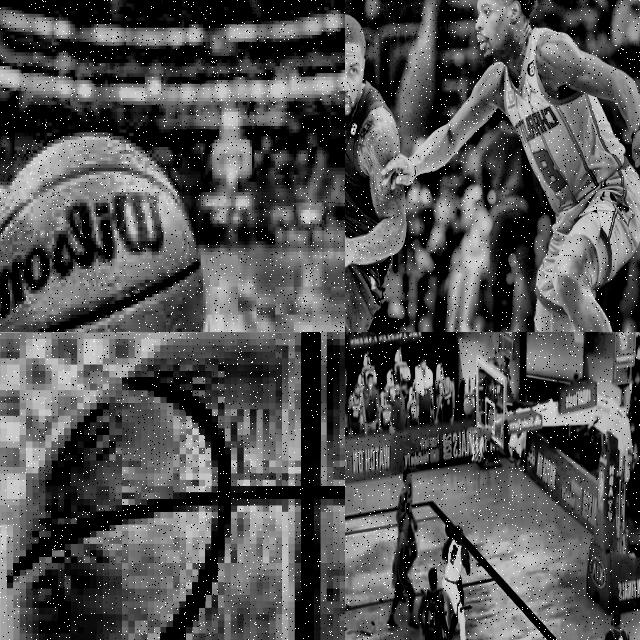Basketball: (4, 332, 345, 640), (0, 136, 203, 332), (463, 399, 472, 415)
